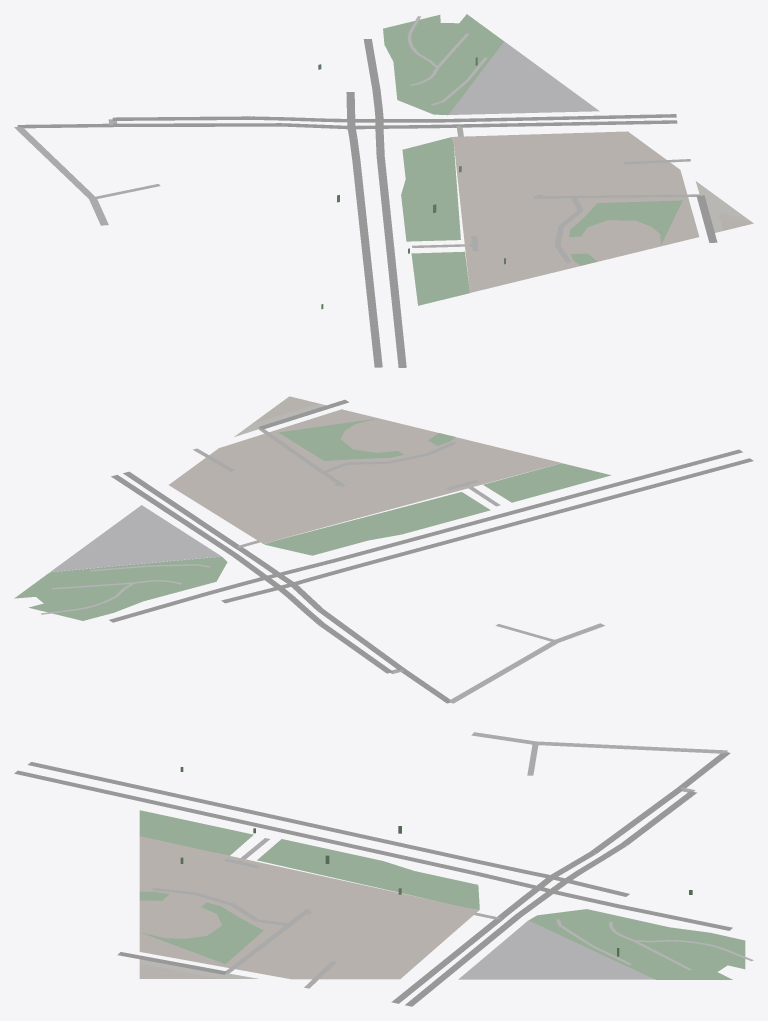
3 renders of one model, top to bottom at view 1: azimuth 30°, elevation 25°; view 2: azimuth 150°, elevation 25°; view 3: azimuth 270°, elevation 25°, orthographic. The views are drawn at different scales.
Bounding box in the file's own units: 537 × 8.56 × 611.
